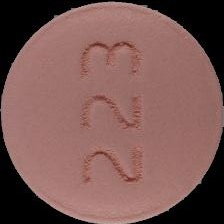68462-223: (0, 0, 224, 224)
